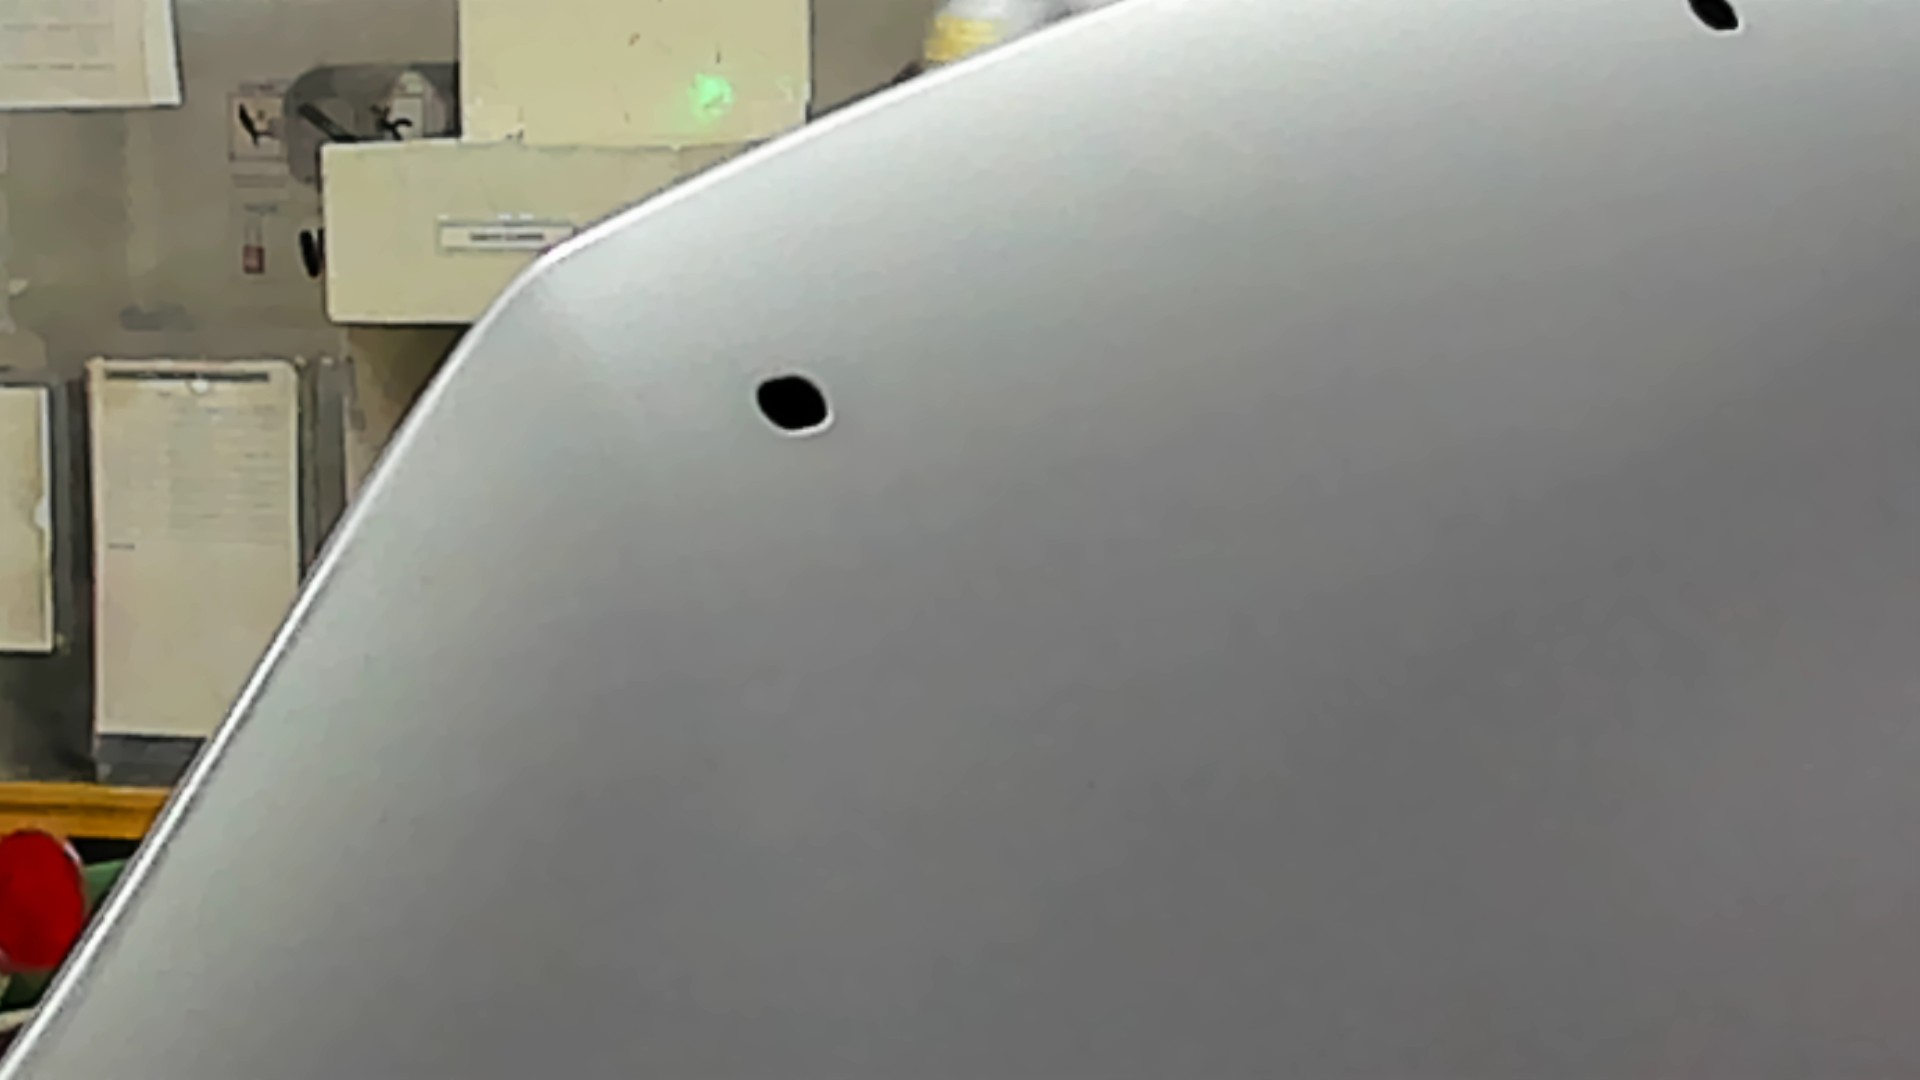chico: (735, 365, 857, 444), (1669, 1, 1747, 47)
